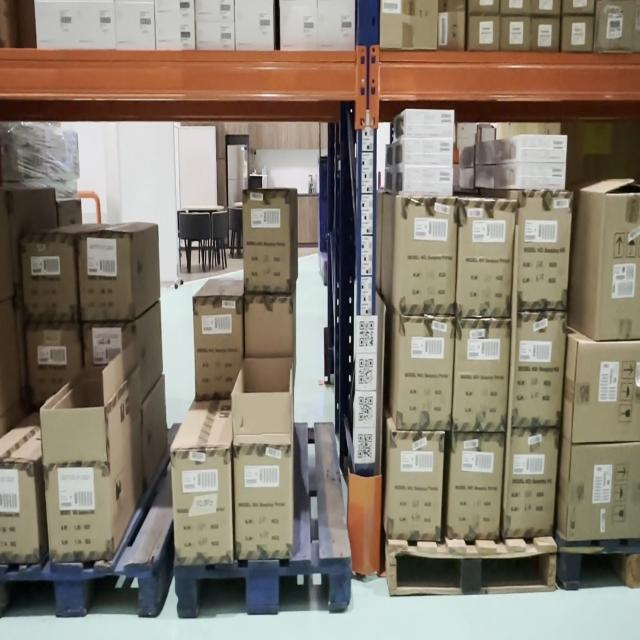box: (235, 440, 291, 562), (173, 449, 230, 565), (456, 324, 513, 433), (402, 198, 456, 310), (449, 437, 508, 539), (459, 208, 517, 311), (46, 464, 111, 555), (399, 322, 455, 424), (390, 432, 442, 537), (514, 317, 564, 422), (77, 231, 129, 324), (509, 432, 557, 531), (522, 213, 570, 304), (23, 240, 79, 318), (246, 203, 292, 286)
